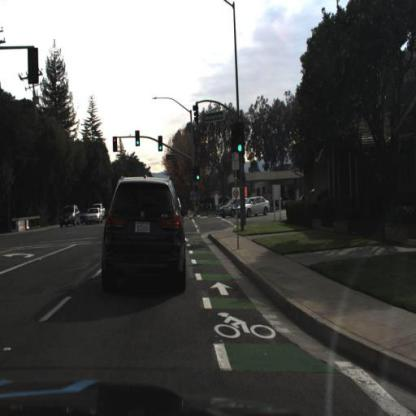car: (99, 168, 192, 304), (235, 195, 272, 218), (57, 202, 83, 234), (85, 205, 103, 228)
trafficLight: (112, 132, 120, 156)
trafficLight-Green: (233, 120, 248, 158), (136, 131, 141, 146), (158, 137, 163, 152), (197, 169, 202, 183)
